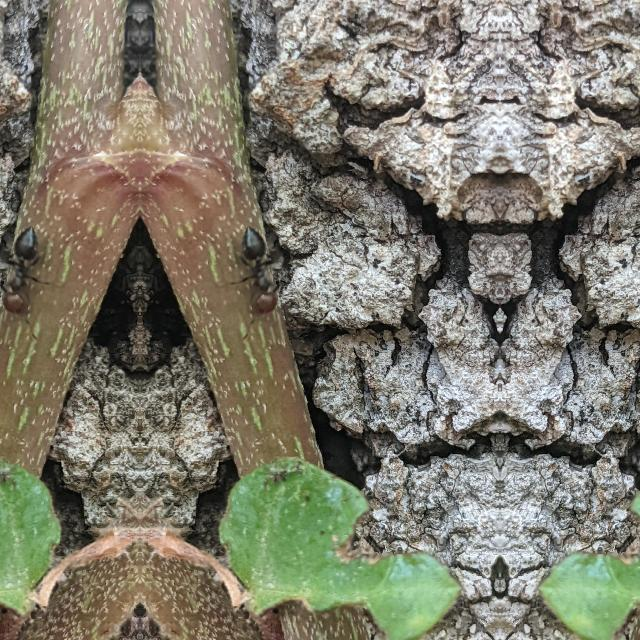Crematogaster: (229, 221, 289, 321), (0, 221, 51, 321)
